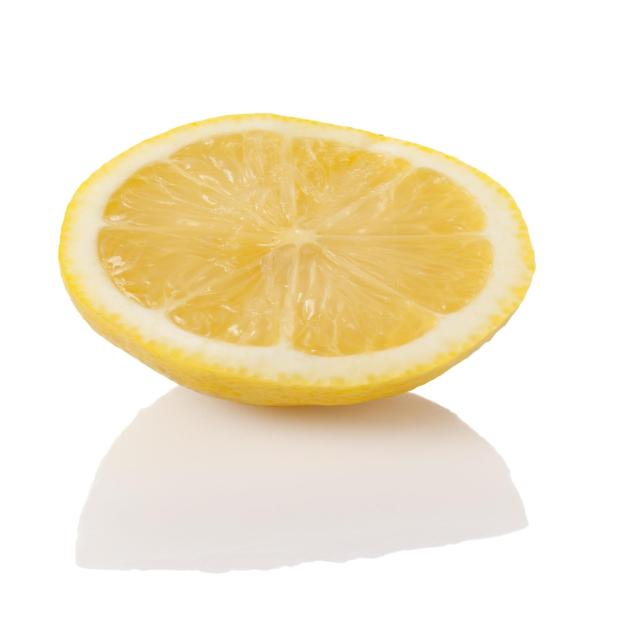lemon: (53, 104, 537, 422)
